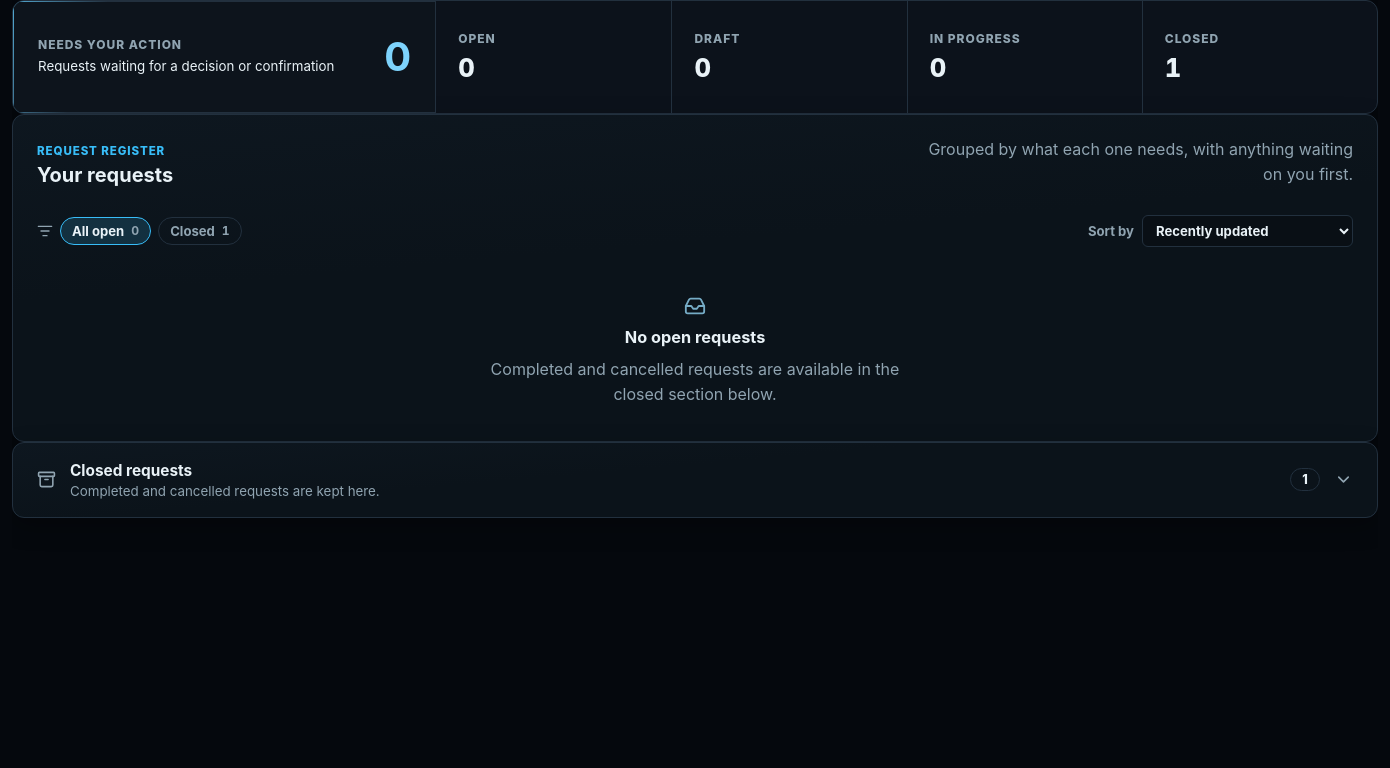
Test: hides the confirm receipt action from non-owners and closed requests
Click the text "Closed requests" at (131, 470), box [70, 461, 192, 480]
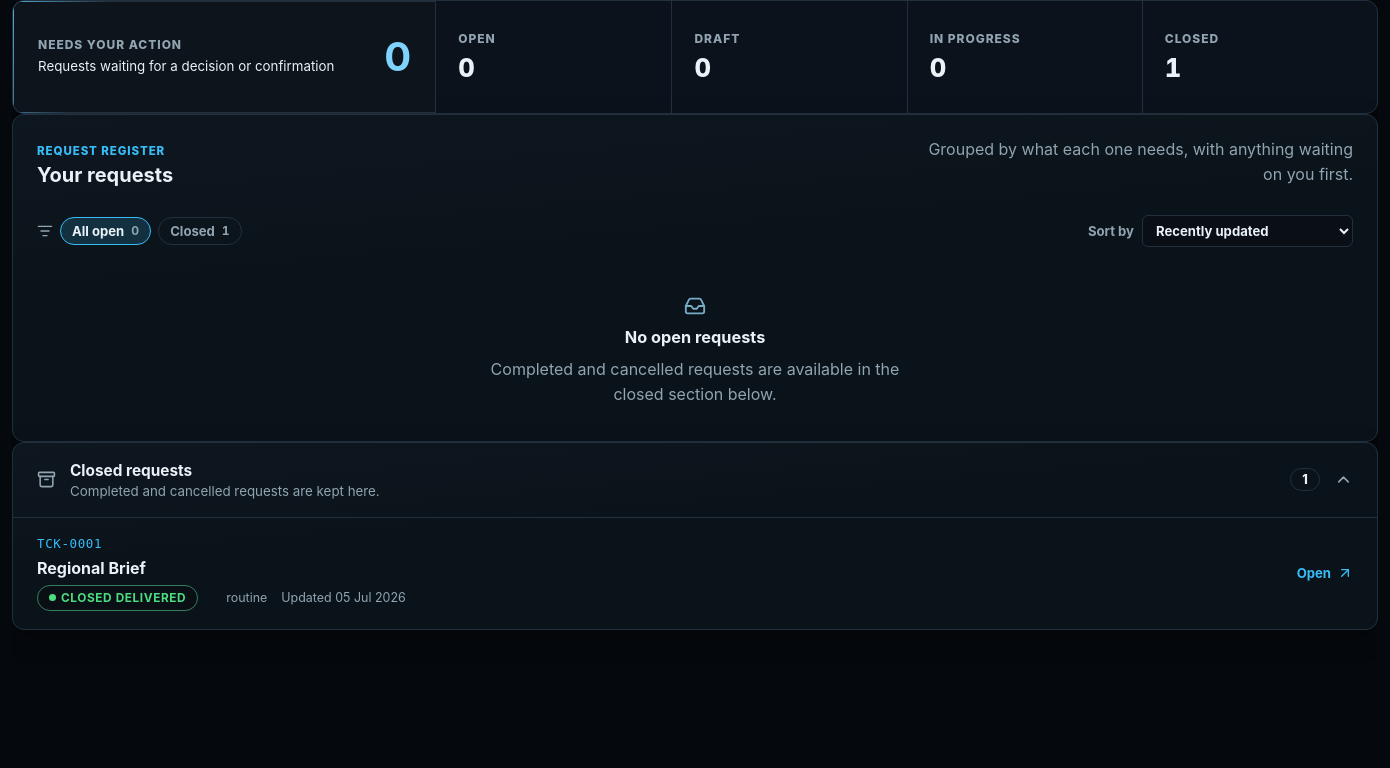
Expected: the text "Closed delivered" is shown, [37, 585, 198, 611]
